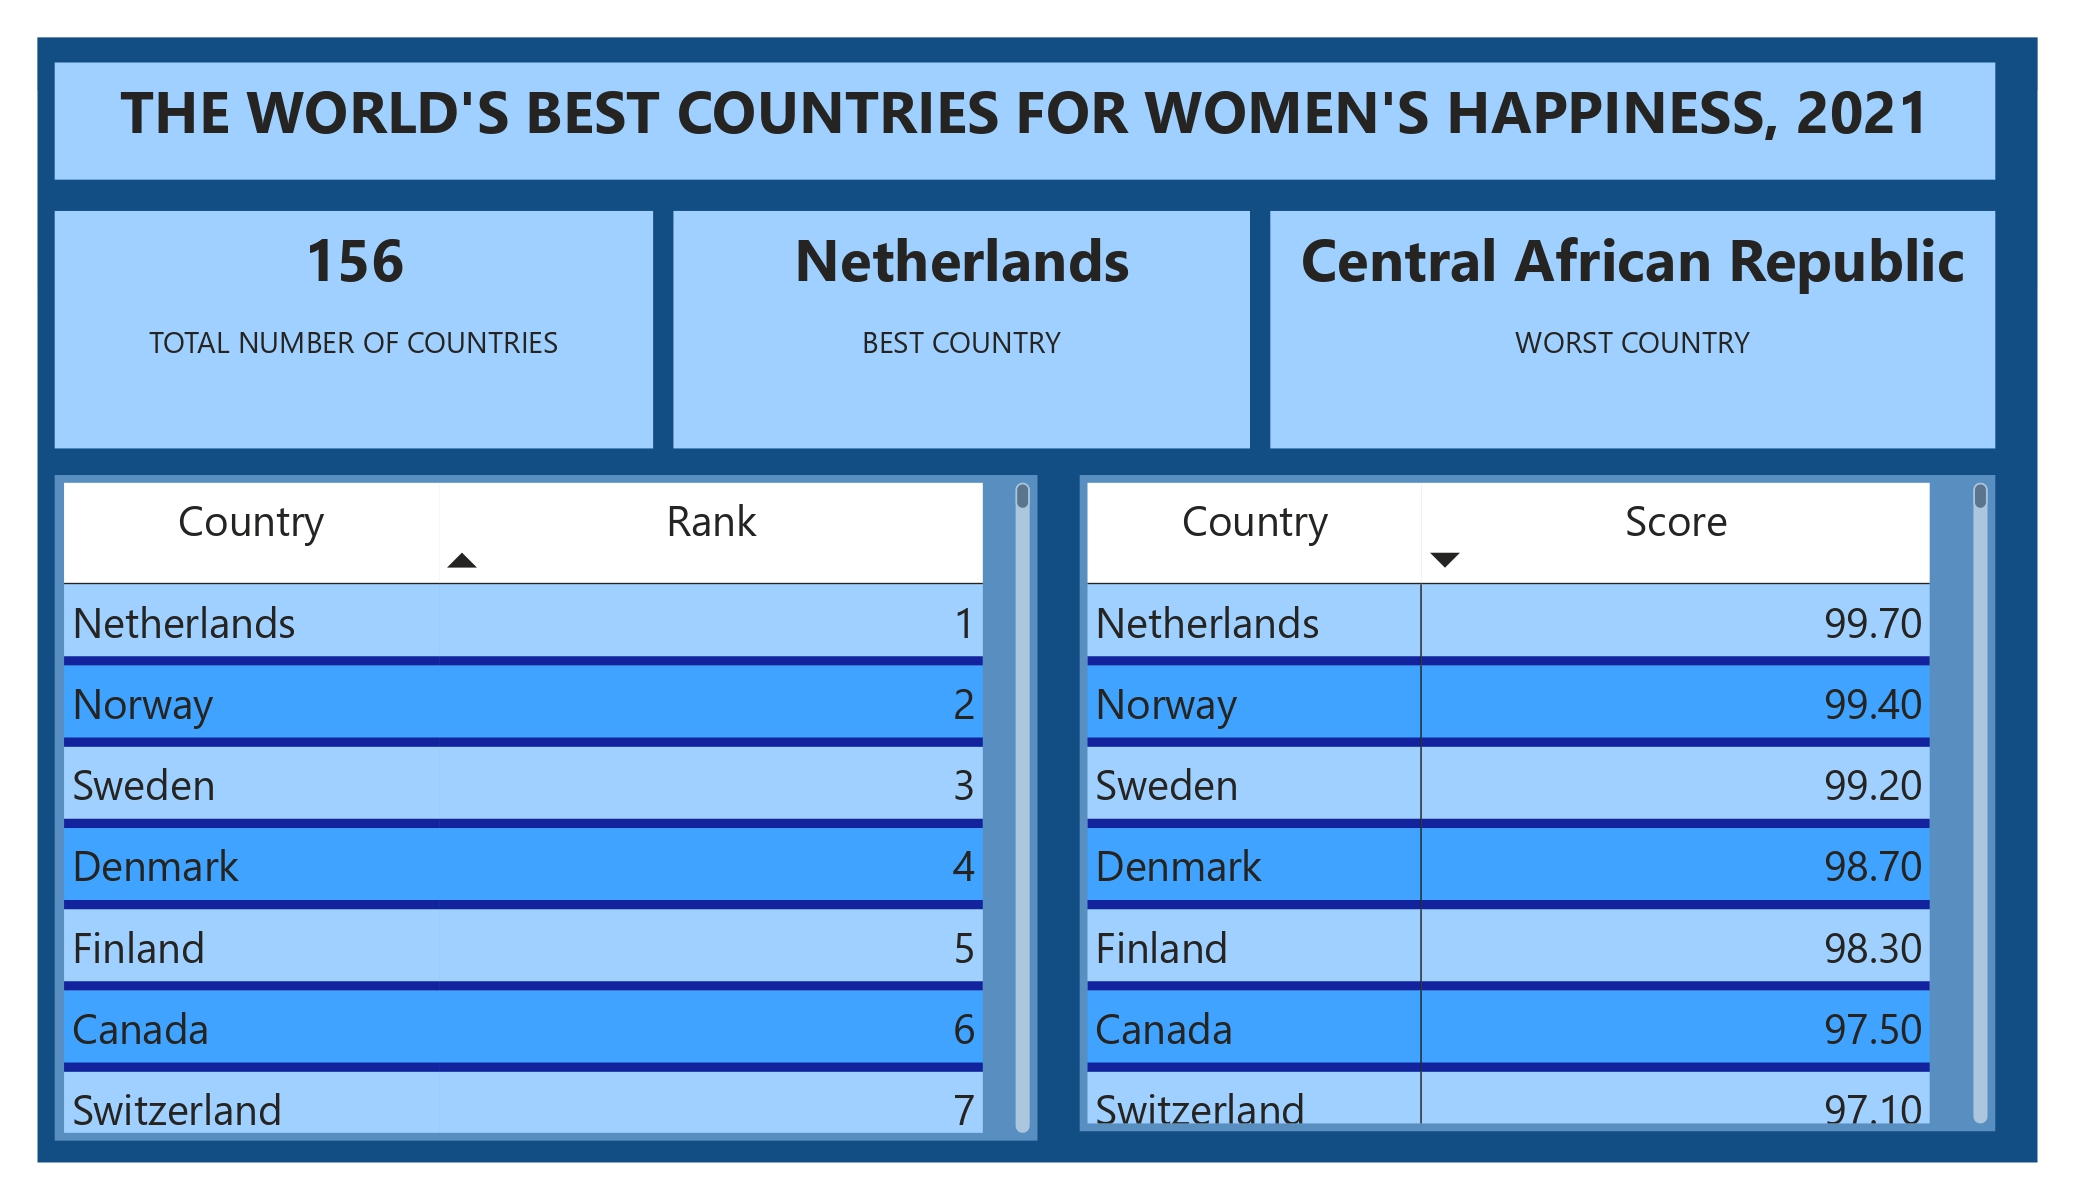

Layout of this report page (visuals, bound fields, positions):
{"tool":"powerbi","page":{"name":"Page 1","canvas":[1280,720],"ordinal":0},"visuals":[{"type":"tableEx","fields":{"Values":["the-worlds-best-countries-for-w.Country","Sum(the-worlds-best-countries-for-w.Rank)"]},"box":[11.5,280.2,628,425.4],"z":0},{"type":"textbox","box":[406.7,110.7,369.3,152.3],"z":2},{"type":"textbox","box":[789,110.7,464.2,152.3],"z":3},{"type":"pivotTable","fields":{"Rows":["the-worlds-best-countries-for-w.Country"],"Values":["Sum(the-worlds-best-countries-for-w.Score)"]},"box":[666.8,280.2,586.3,419.6],"z":4},{"type":"textbox","box":[11.5,15.8,1241.7,74.7],"z":5},{"type":"textbox","box":[11.5,110.7,382.3,152.3],"z":6}]}

Visuals, with their boxes in screenshot pixels (x1, y1, x2, y2):
tableEx - the-worlds-best-countries-for-w.Country x Sum(the-worlds-best-countries-for-w.Rank): l=55, t=475, r=1037, b=1140
textbox: l=673, t=210, r=1250, b=448
textbox: l=1270, t=210, r=1996, b=448
pivotTable - the-worlds-best-countries-for-w.Country x Sum(the-worlds-best-countries-for-w.Score): l=1079, t=475, r=1995, b=1131
textbox: l=55, t=62, r=1996, b=179
textbox: l=55, t=210, r=653, b=448
